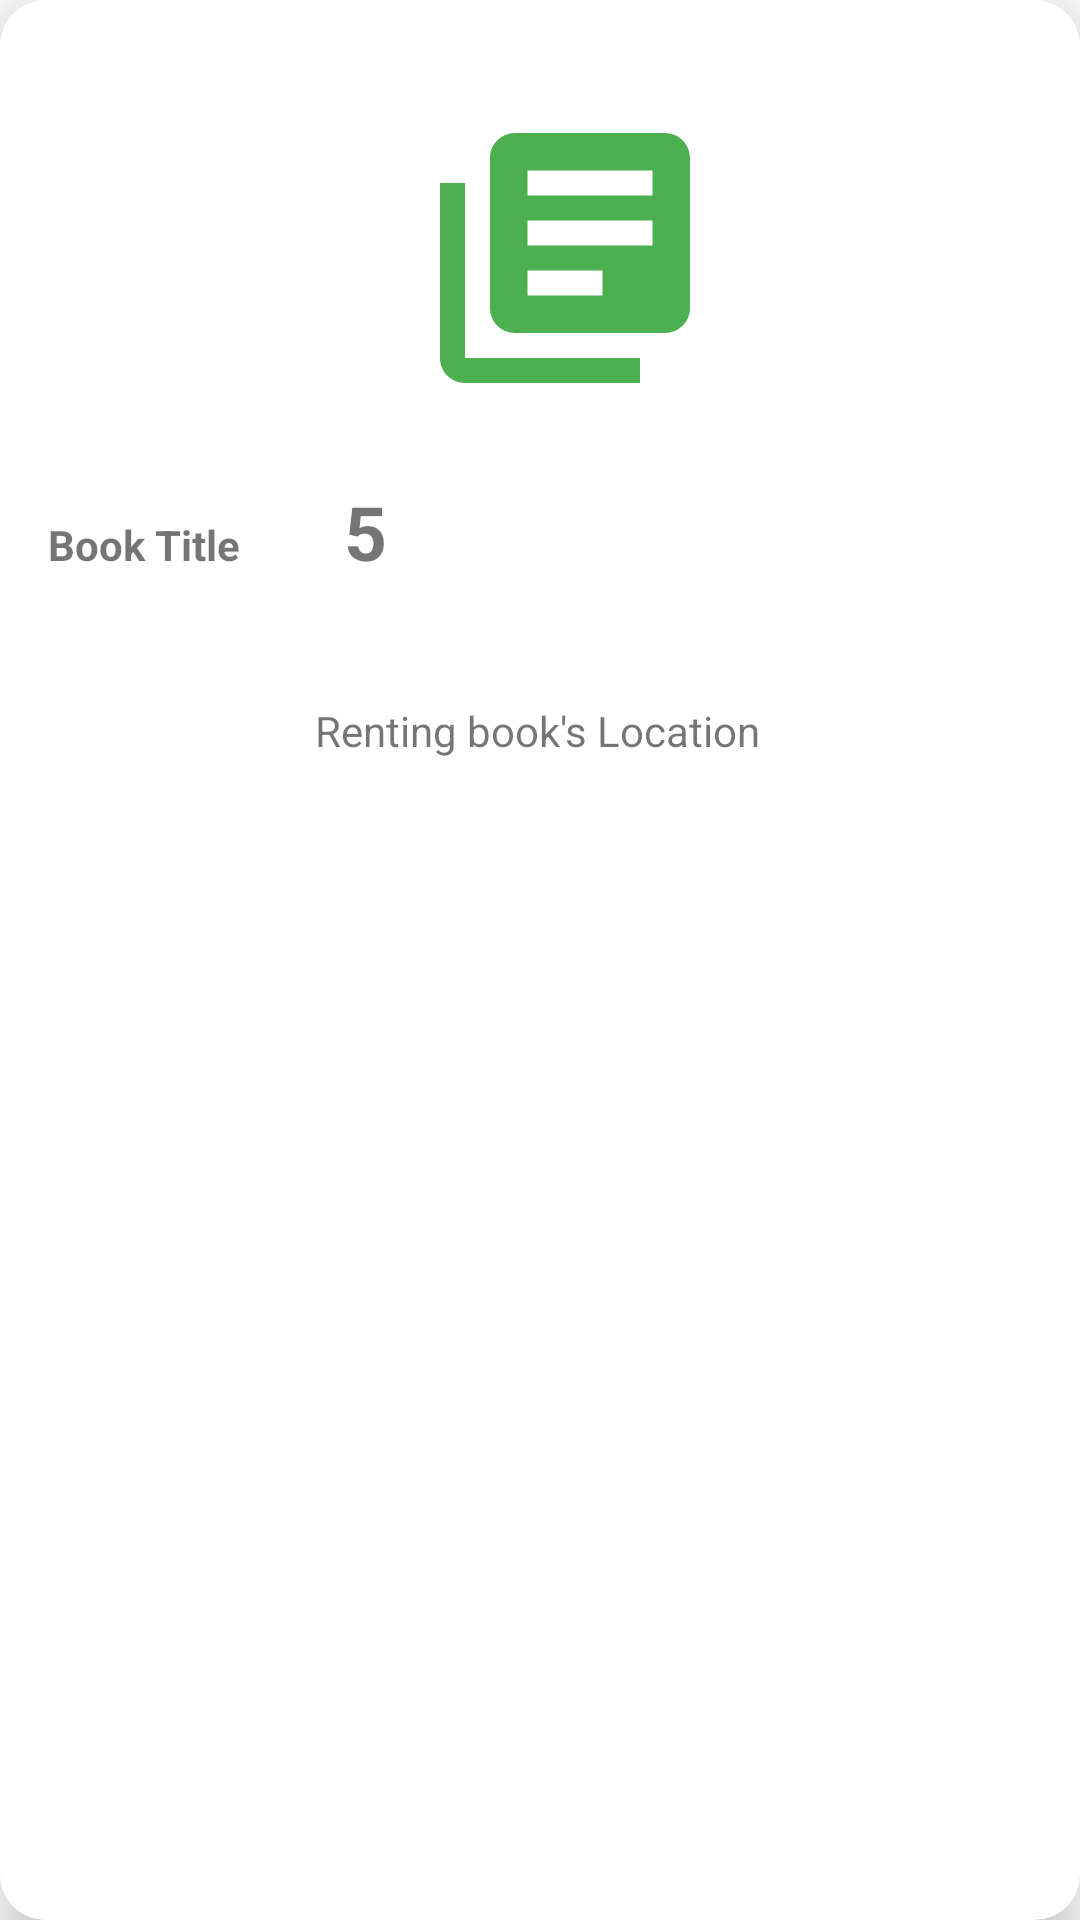

Named icons in this screenshot (1080px×1920px) and their centers, (x=x, y=y):
books: (x=565, y=258)
